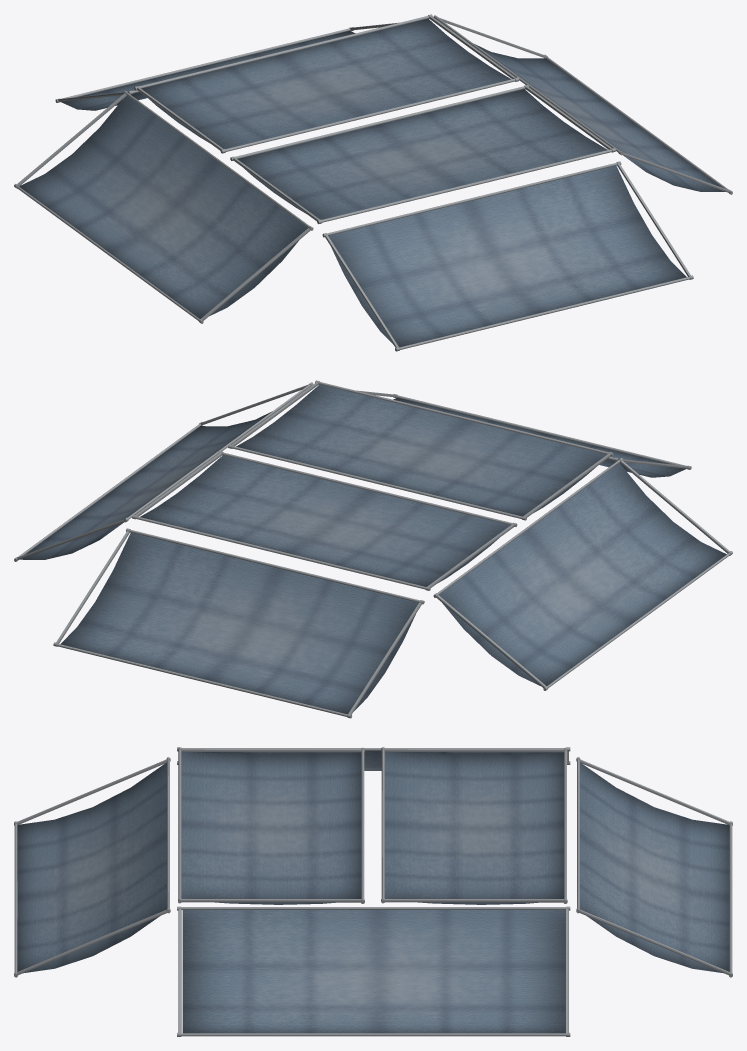
File: AtriumBlinds.fbx
3 renders of one model, top to bottom at view 1: azimuth 30°, elevation 25°; view 2: azimuth 150°, elevation 25°; view 3: azimuth 270°, elevation 25°, orthographic. The views are drawn at different scales.
Parts seen in each view (by area): view 1: AtriumBlinds; view 2: AtriumBlinds; view 3: AtriumBlinds.
Part boxes in pixels (x1=…): AtriumBlinds: x1=14, y1=14, x2=732, y2=351; AtriumBlinds: x1=14, y1=380, x2=732, y2=718; AtriumBlinds: x1=14, y1=747, x2=732, y2=1036.
Bounding box in the file's own units: 3384 × 450 × 3760.
Materials: 1 (1 with a texture image).
